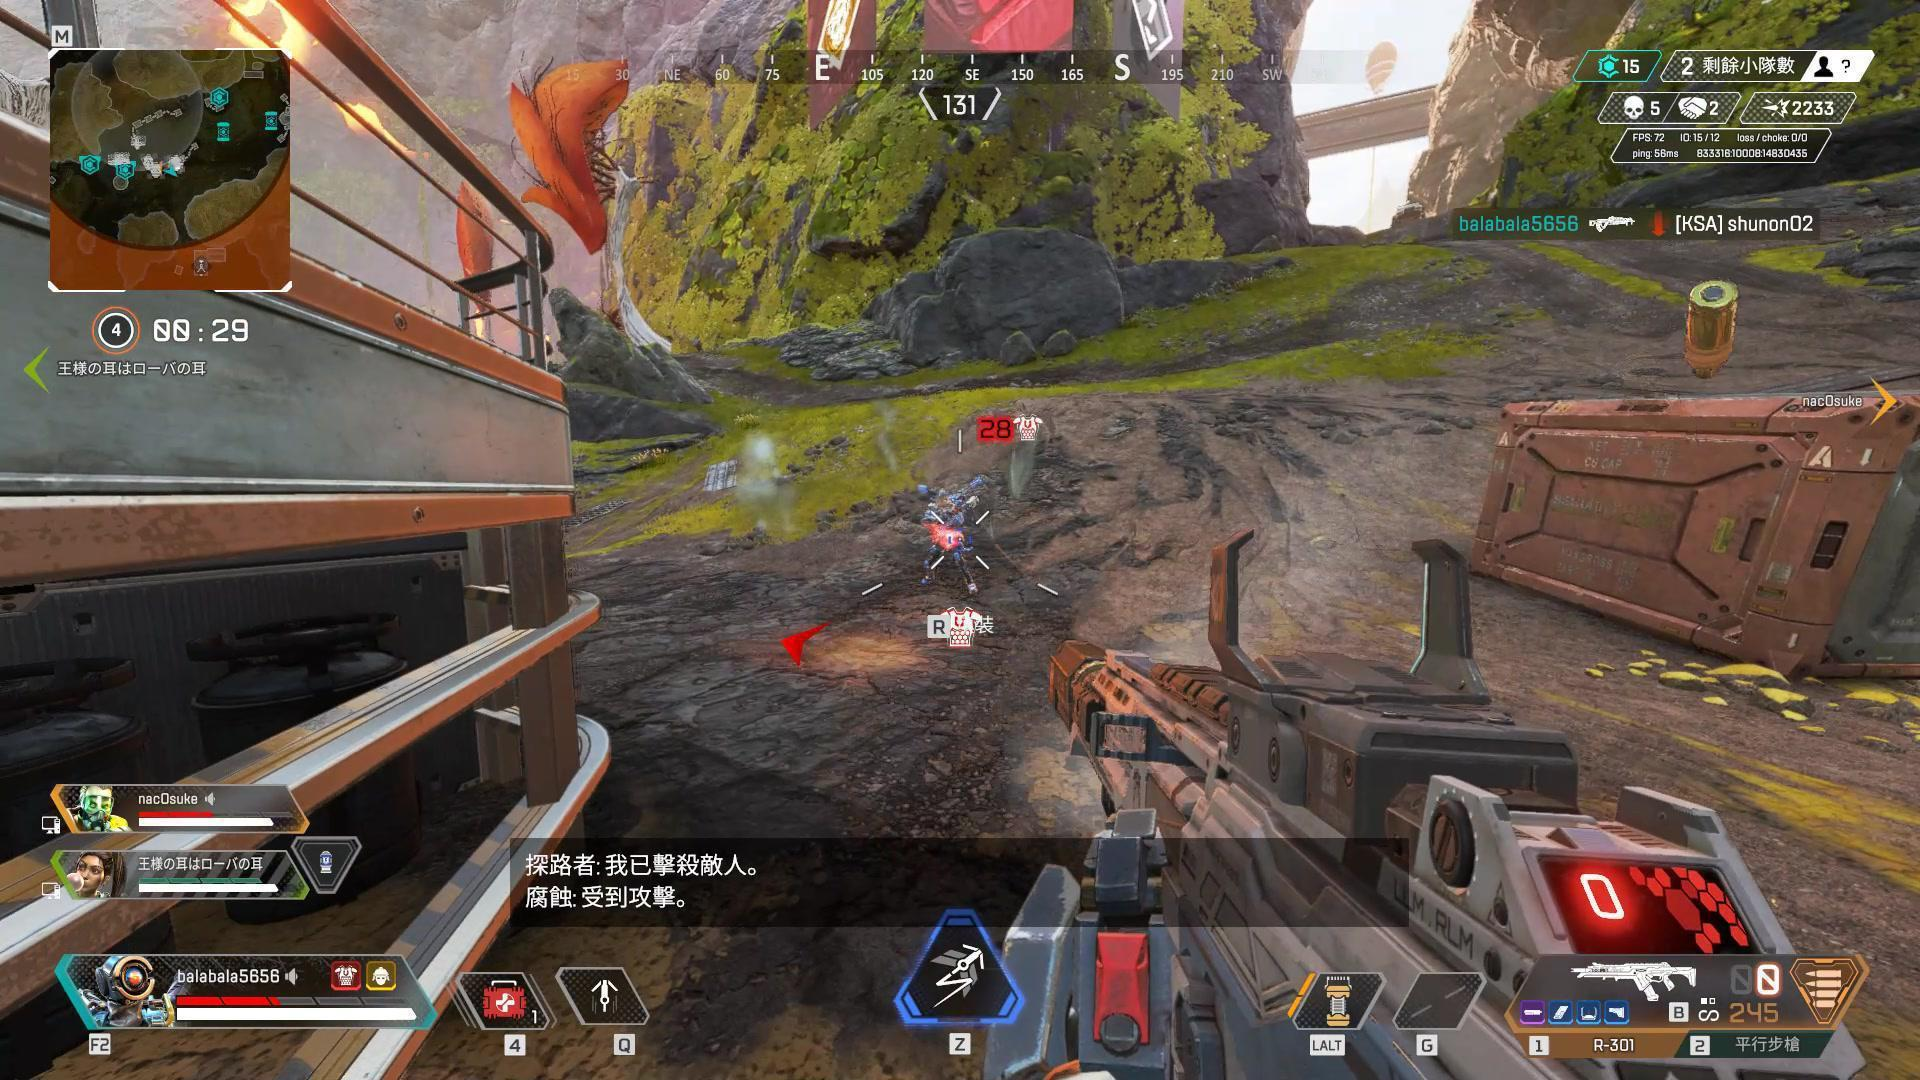avatar: (918, 479, 981, 593)
object: (924, 519, 963, 553)
